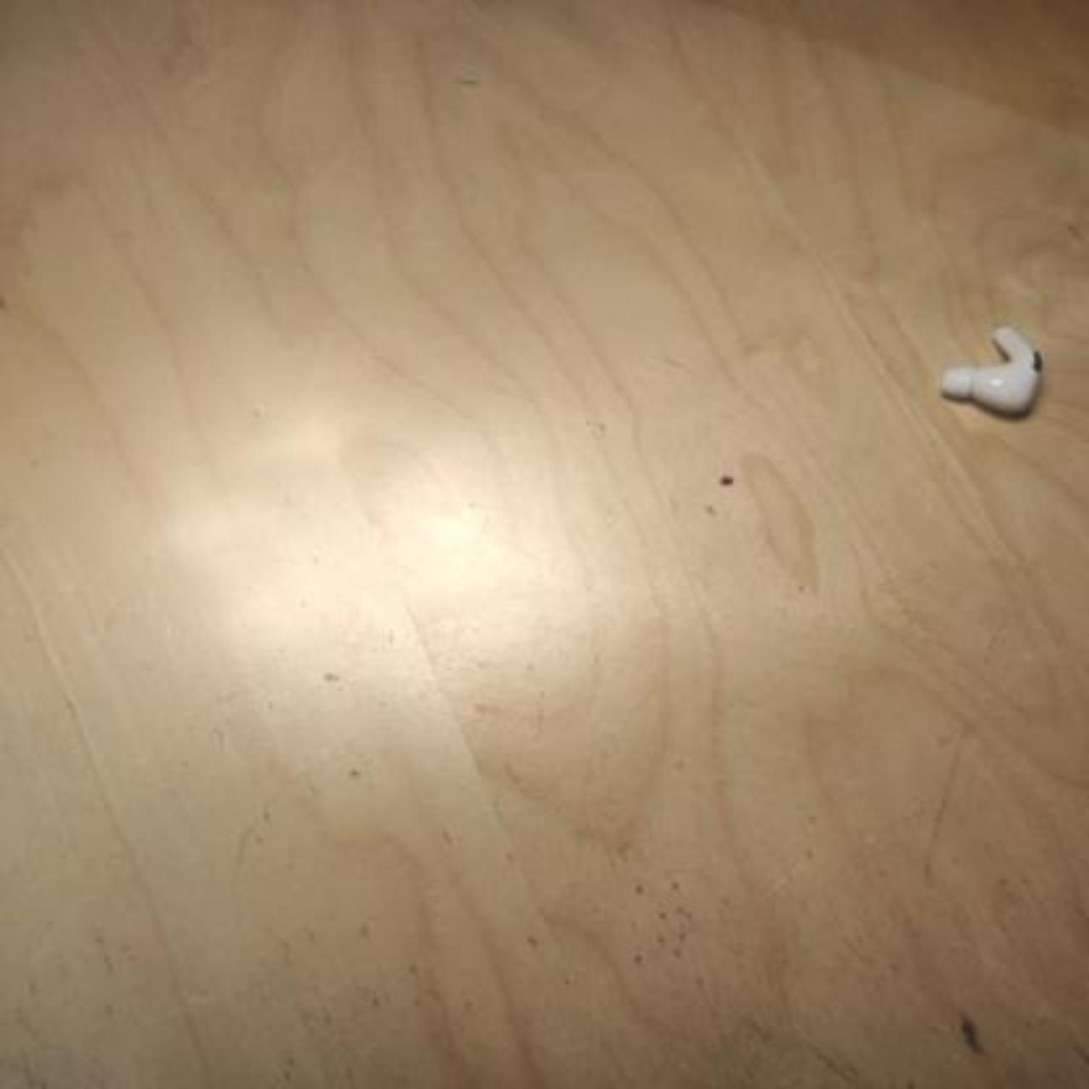Airpods_Units: (945, 327, 1049, 418)
